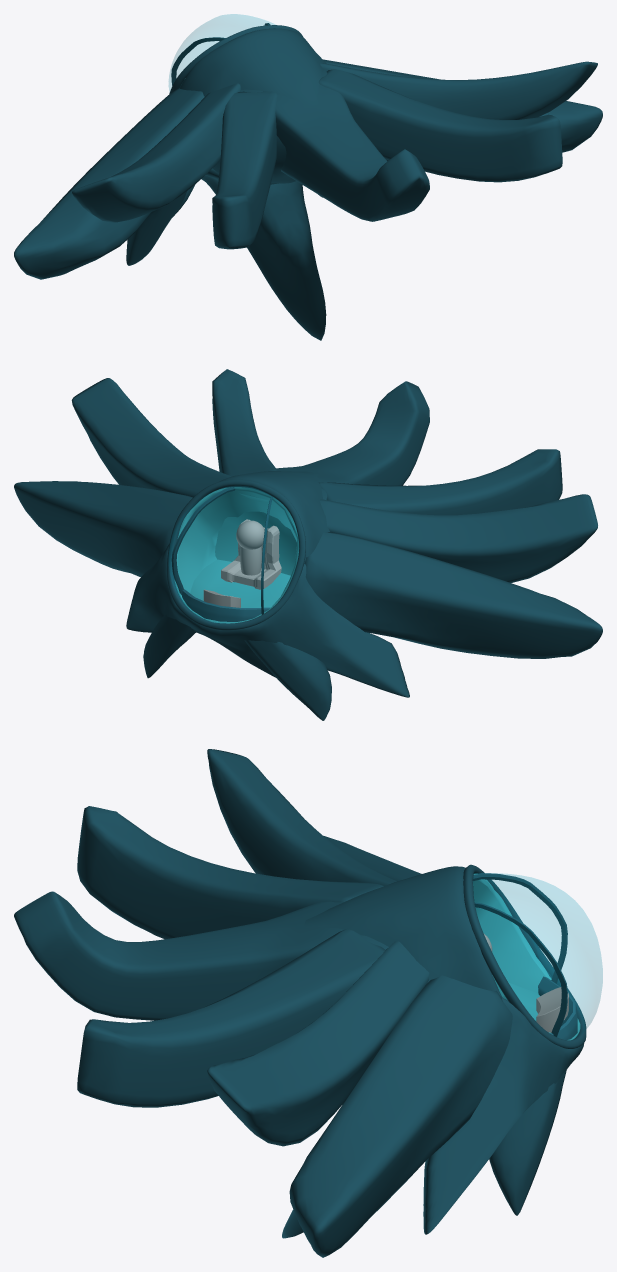
File: cockpit blockout fixed.fbx
3 views of the same model, one above another, from view 1: azimuth 30°, elevation 25°; view 2: azimuth 150°, elevation 25°; view 3: azimuth 270°, elevation 25° (orthographic). The views are drawn at different scales.
Visible parts, largest first — view 1: Wing_5_1, Wing_4_1, wing_back1, Wing_3_1, front_piece3, Back_case1_1, cabin1, cabin_rim; view 2: Wing_3_1, Wing_4_1, Wing_5_1, front_piece3, wing_back1, Wing_front_2, cockpit_inside, cabin_rim, Back_case1_1, cockpit_ground, cockpit_wall, chair_blockout (+4 smaller); view 3: Wing_5_1, Wing_3_1, Wing_4_1, wing_back1, Back_case1_1, front_piece3, cabin1, Wing_front_2, cockpit_inside, cabin_rim, pTorus2, pTorus1 (+2 smaller).
Boxes of the visible parts, x1,y1,x2,y2 form: Wing_5_1: [212, 69, 562, 249]; Wing_4_1: [72, 61, 597, 222]; wing_back1: [239, 69, 429, 221]; Wing_3_1: [14, 59, 602, 279]; front_piece3: [126, 159, 388, 340]; Back_case1_1: [180, 28, 326, 183]; cabin1: [169, 14, 274, 91]; cabin_rim: [169, 25, 302, 94]; Wing_3_1: [14, 481, 602, 658]; Wing_4_1: [71, 378, 597, 582]; Wing_5_1: [212, 369, 562, 515]; front_piece3: [126, 544, 409, 697]; wing_back1: [276, 381, 429, 499]; Wing_front_2: [143, 614, 331, 720]; cockpit_inside: [174, 487, 298, 623]; cabin_rim: [166, 479, 305, 630]; Back_case1_1: [219, 471, 329, 563]; cockpit_ground: [190, 559, 290, 607]; cockpit_wall: [215, 493, 296, 575]; chair_blockout: [221, 519, 281, 589]; Wing_5_1: [77, 806, 385, 1107]; Wing_3_1: [289, 836, 512, 1257]; Wing_4_1: [207, 749, 429, 1146]; wing_back1: [14, 891, 388, 1020]; Back_case1_1: [304, 866, 502, 997]; front_piece3: [282, 969, 584, 1238]; cabin1: [476, 873, 602, 1033]; Wing_front_2: [489, 1070, 566, 1215]; cockpit_inside: [472, 873, 580, 1040]; cabin_rim: [463, 864, 586, 1048]; pTorus2: [473, 873, 567, 983]; pTorus1: [474, 902, 567, 1036].
Bounding box in the file's own units: 1659 × 712 × 1051.
